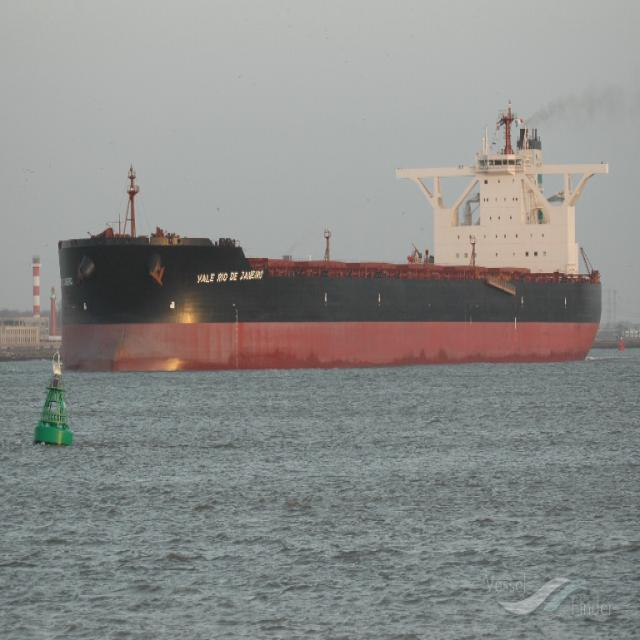OCR: (194, 258, 268, 299)
